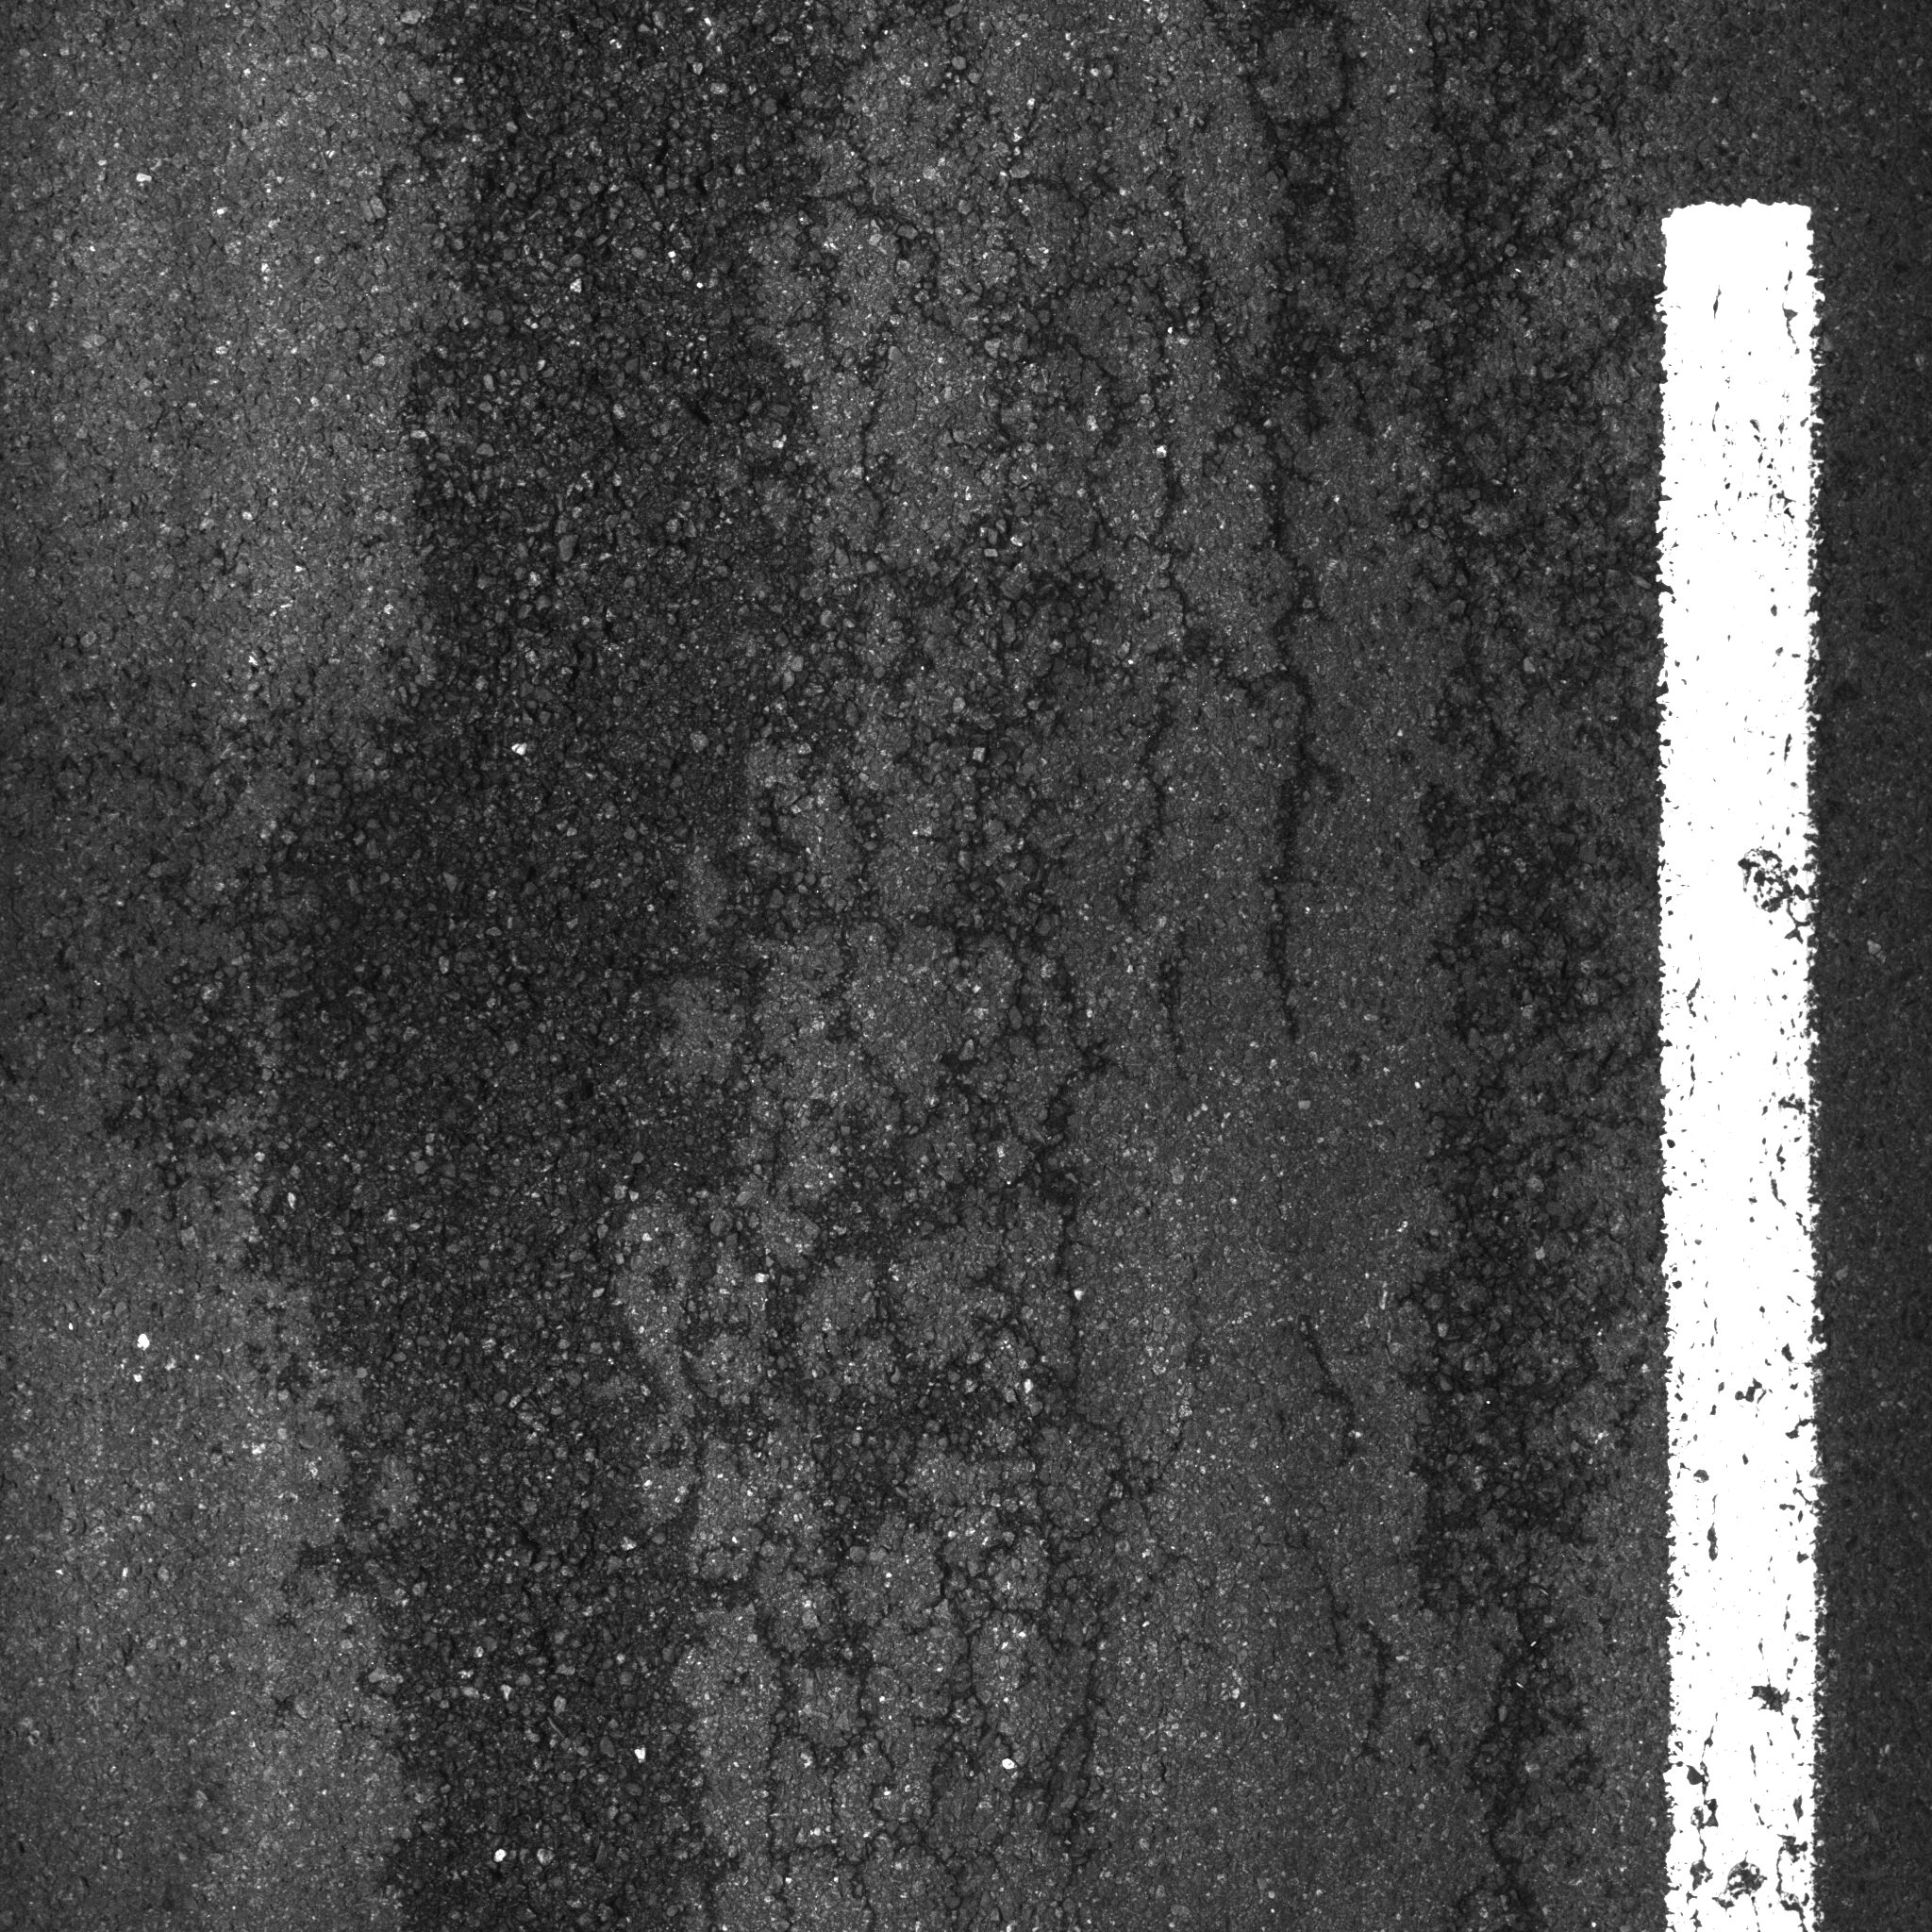alligator: (363, 4, 1624, 1907)
